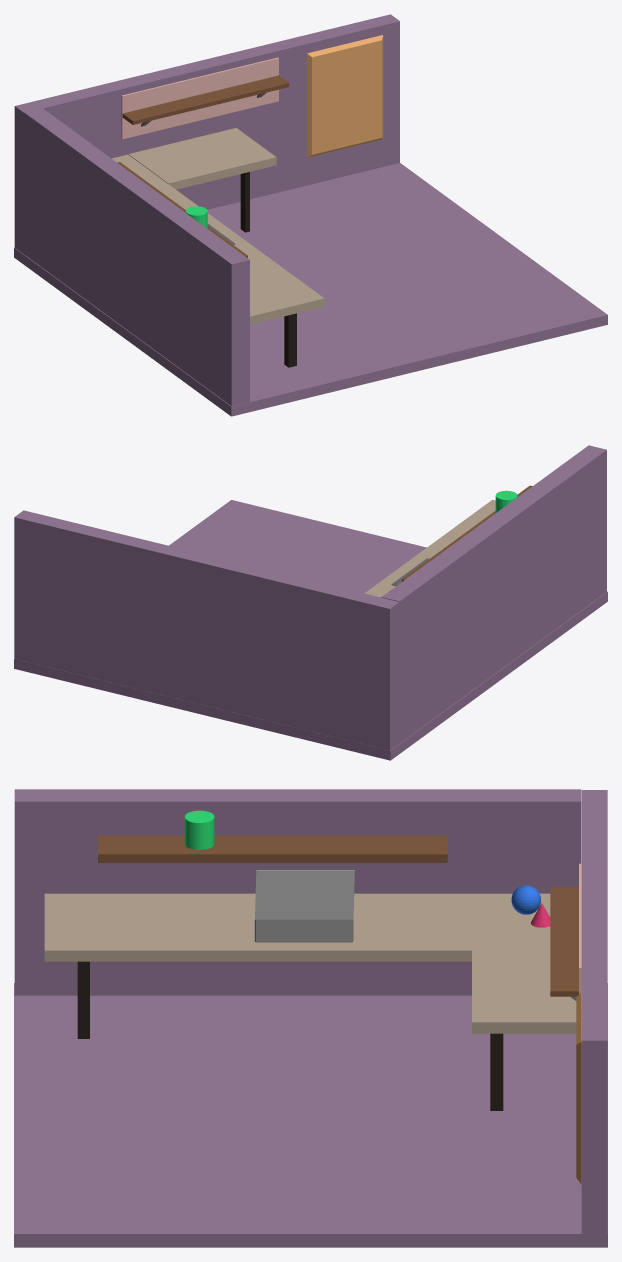
Rendered from Room_work.glb.
The picture shows the model from 3 angles, top to bottom: view 1: azimuth 30°, elevation 25°; view 2: azimuth 150°, elevation 25°; view 3: azimuth 270°, elevation 25°; orthographic projection. The views are drawn at different scales.
Parts seen in each view (by area): view 1: Plane, Cube.002, Cube.001, Cube.003, Cube, Cube.004, Cube.008, Cube.009; view 2: Plane, Cube; view 3: Plane, Cube, Cube.006, Cube.001, Cube.011, Cube.004, Cube.010, Cylinder, Cube.002, Cube.009, Cube.008, Sphere.
Boxes of the visible parts, <box> form: Plane: <box>14,14,607,416</box>; Cube.002: <box>307,35,383,157</box>; Cube.001: <box>128,128,276,189</box>; Cube.003: <box>121,57,278,139</box>; Cube: <box>112,154,324,324</box>; Cube.004: <box>122,75,289,124</box>; Cube.008: <box>284,313,296,367</box>; Cube.009: <box>240,172,249,232</box>; Plane: <box>14,445,607,760</box>; Cube: <box>364,499,495,597</box>; Plane: <box>14,789,607,1247</box>; Cube: <box>44,893,550,961</box>; Cube.006: <box>98,835,447,862</box>; Cube.001: <box>472,950,576,1033</box>; Cube.011: <box>255,870,354,919</box>; Cube.004: <box>550,887,578,996</box>; Cube.010: <box>254,919,353,942</box>; Cylinder: <box>184,810,214,849</box>; Cube.002: <box>576,991,581,1184</box>; Cube.009: <box>490,1033,503,1110</box>; Cube.008: <box>77,961,89,1038</box>; Sphere: <box>511,885,540,914</box>.
Size of what is drawn, in the model's own units: 8 by 3.08 by 8.
